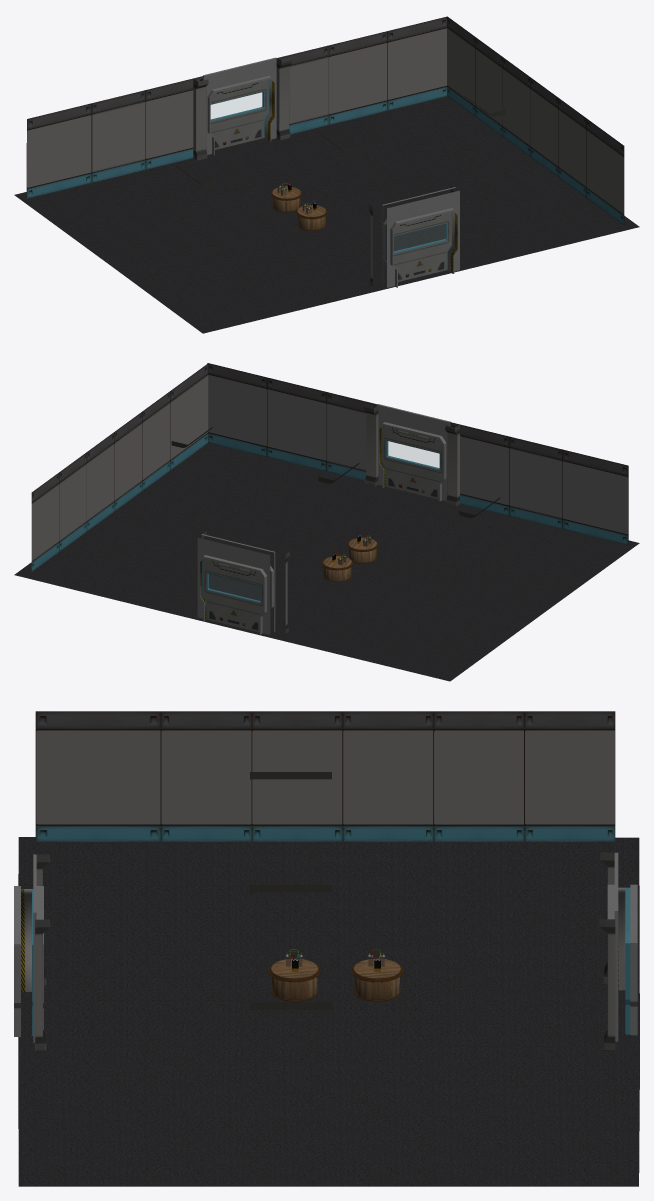
The model's file is Question.gltf.
3 renders of one model, top to bottom at view 1: azimuth 30°, elevation 25°; view 2: azimuth 150°, elevation 25°; view 3: azimuth 270°, elevation 25°, orthographic. The views are drawn at different scales.
Visible parts, largest first — view 1: Floor5, Lab1, Lab2, Tunnel_Door, Door_Wall1; view 2: Floor5, Lab1, Lab2, Tunnel_Door, Door_Wall1; view 3: Floor5, Lab1, Door_Wall1, Round1, Round, Tunnel_Door, Disk_01, Disk_02.
Part boxes in pixels (x1,y1,x2,y2): Floor5: [14, 96, 639, 333]; Lab1: [26, 16, 459, 287]; Lab2: [447, 16, 624, 225]; Tunnel_Door: [210, 80, 269, 149]; Door_Wall1: [203, 57, 276, 155]; Floor5: [14, 443, 639, 681]; Lab1: [202, 363, 628, 633]; Lab2: [31, 363, 208, 571]; Tunnel_Door: [202, 558, 263, 632]; Door_Wall1: [197, 534, 275, 634]; Floor5: [18, 837, 639, 1186]; Lab1: [14, 711, 615, 1050]; Door_Wall1: [607, 852, 637, 1041]; Round1: [271, 977, 318, 1001]; Round: [353, 977, 401, 1001]; Tunnel_Door: [625, 887, 630, 1034]; Disk_01: [351, 958, 403, 982]; Disk_02: [268, 958, 320, 982].
Bounding box in the file's own units: 34.6 × 6.18 × 26.19.
17 materials, 11 textured.
